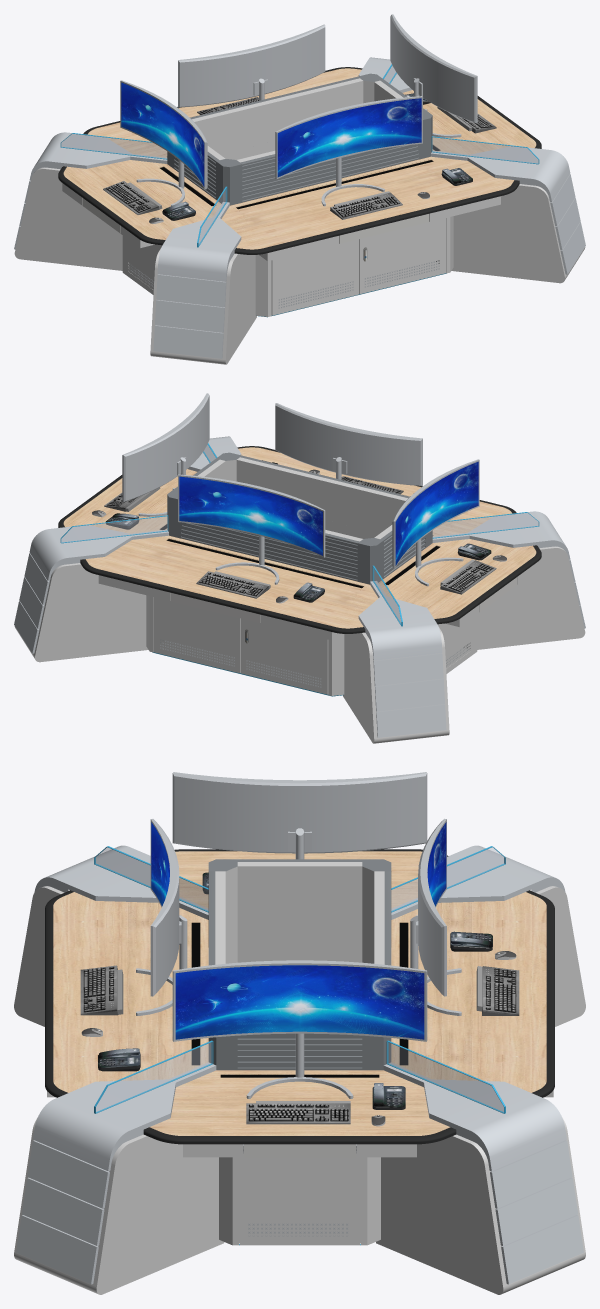
The picture shows the model from 3 angles, top to bottom: view 1: azimuth 30°, elevation 25°; view 2: azimuth 150°, elevation 25°; view 3: azimuth 270°, elevation 25°; orthographic projection. The views are drawn at different scales.
Visible parts, largest first — view 1: gray1_paint (×11), wood (×4), metal (×4), gray3_paint (×4), screen1 (×2), gray2_paint (×6), galss (×2), black_paint (×2), face-profile-bigger[1] (×2), Drawer, [0136_Charcoal]; view 2: gray1_paint (×11), wood (×4), metal (×4), gray3_paint (×4), screen1 (×2), gray2_paint (×6), galss (×2), black_paint (×2), face-profile-bigger[1] (×2), Drawer, [0136_Charcoal]; view 3: gray1_paint (×14), wood (×4), metal (×4), gray3_paint (×4), screen1 (×3), galss (×4), gray2_paint (×5), black_paint (×3), face-profile-bigger[1] (×3), Drawer, [0136_Charcoal] (×2).
Part boxes in pixels (<box>): gray1_paint (×11): <box>14,78,585,364</box>; wood (×4): <box>63,68,536,249</box>; metal (×4): <box>14,57,585,358</box>; gray3_paint (×4): <box>120,14,477,189</box>; screen1 (×2): <box>121,82,421,186</box>; gray2_paint (×6): <box>174,76,439,308</box>; galss (×2): <box>61,134,538,163</box>; black_paint (×2): <box>58,166,519,254</box>; face-profile-bigger[1] (×2): <box>103,181,402,219</box>; Drawer: <box>339,214,428,243</box>; [0136_Charcoal]: <box>236,160,432,209</box>; gray1_paint (×11): <box>14,457,585,743</box>; wood (×4): <box>63,447,536,628</box>; metal (×4): <box>14,436,585,737</box>; gray3_paint (×4): <box>122,393,479,568</box>; screen1 (×2): <box>179,461,478,565</box>; gray2_paint (×6): <box>160,455,425,687</box>; galss (×2): <box>61,513,538,542</box>; black_paint (×2): <box>80,545,541,633</box>; face-profile-bigger[1] (×2): <box>196,560,496,598</box>; Drawer: <box>170,593,260,622</box>; [0136_Charcoal]: <box>167,539,363,588</box>; gray1_paint (×14): <box>14,862,585,1294</box>; wood (×4): <box>53,851,546,1135</box>; metal (×4): <box>16,845,583,1284</box>; gray3_paint (×4): <box>150,772,446,1041</box>; screen1 (×3): <box>151,822,446,1039</box>; galss (×4): <box>94,847,505,1112</box>; gray2_paint (×5): <box>208,871,391,1070</box>; black_paint (×3): <box>45,890,554,1144</box>; face-profile-bigger[1] (×3): <box>80,965,519,1122</box>; Drawer: <box>244,1144,355,1157</box>; [0136_Charcoal] (×2): <box>191,923,408,1065</box>.
Size of the model in its own units: 3.54 by 1.38 by 2.69.
389 materials, 22 textured.
